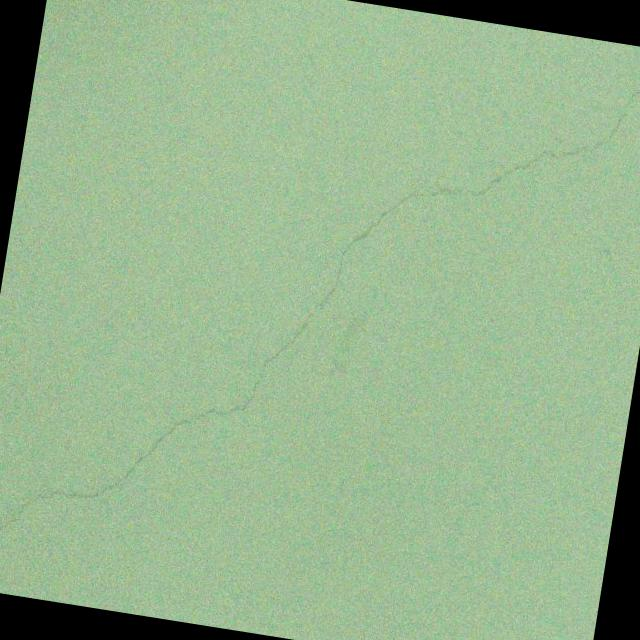crack: (0, 0, 640, 640), (633, 46, 640, 75)
